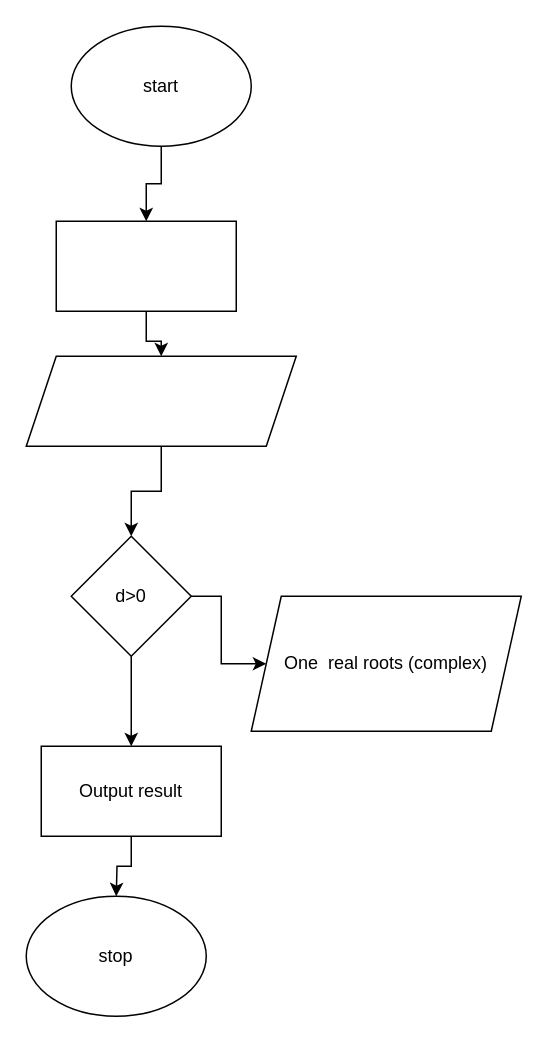
Image size: 548x1043. Some labels were removed from this diagram. Each missing label, with the centre of its shape:
"Compute discriminant D=b^2 -4ac" goes at pixel 160 400.
"Input a ,b ,c" goes at pixel 145 265.
